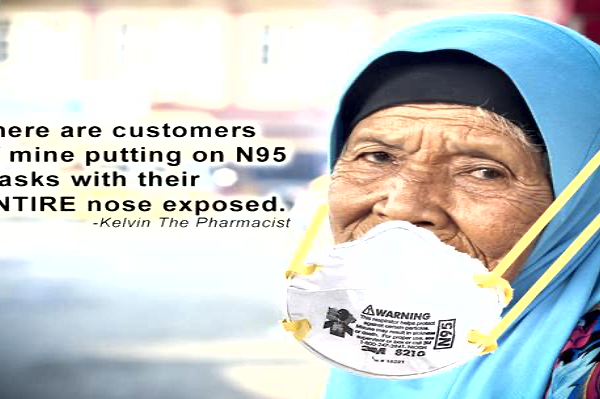mask_weared_incorrect: (324, 128, 543, 307)
